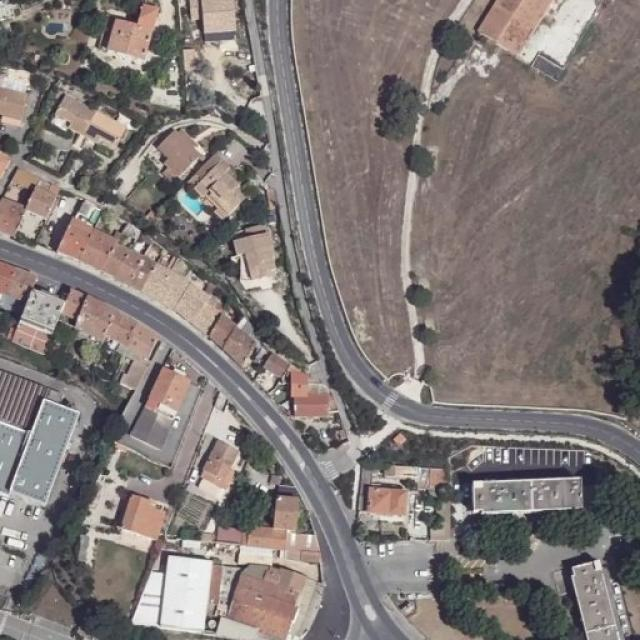immeuble: (455, 448, 586, 528), (223, 546, 335, 639), (127, 546, 228, 636), (14, 383, 76, 519), (92, 0, 191, 80), (70, 295, 174, 371), (127, 358, 200, 456), (559, 522, 619, 640), (146, 255, 218, 338), (58, 80, 129, 160), (83, 210, 150, 292), (17, 286, 82, 362), (286, 362, 358, 430), (106, 476, 172, 548), (355, 470, 428, 534), (55, 206, 107, 270), (207, 308, 261, 365), (258, 348, 303, 387), (0, 258, 38, 302)
maison: (181, 154, 252, 222), (141, 116, 204, 180), (191, 426, 247, 492), (231, 230, 294, 284)
piscine: (169, 184, 217, 223)
villa: (360, 0, 640, 394)
